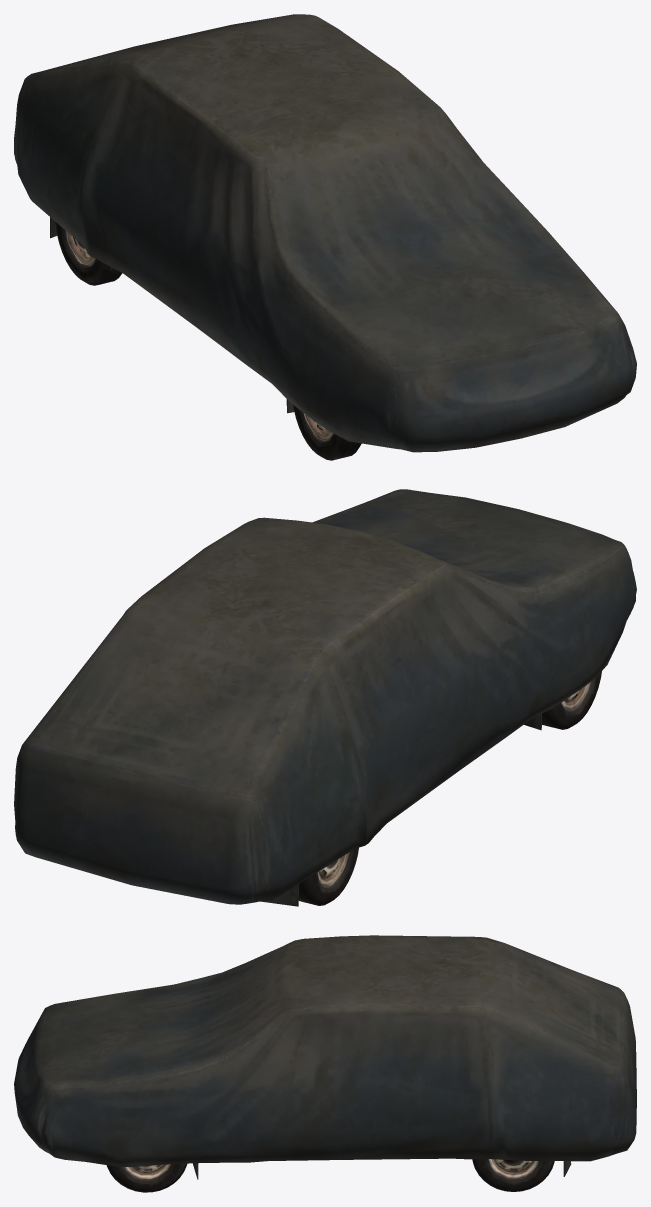
Rendered from covered-car.glb.
The picture shows the model from 3 angles, top to bottom: view 1: azimuth 30°, elevation 25°; view 2: azimuth 150°, elevation 25°; view 3: azimuth 270°, elevation 25°; orthographic projection. The views are drawn at different scales.
Visible parts, largest first — view 1: covered_car_wheel_01; view 2: covered_car_wheel_01; view 3: covered_car_wheel_01.
Boxes of the visible parts, x1,y1,x2,y2 form: covered_car_wheel_01: [14, 14, 636, 460]; covered_car_wheel_01: [14, 489, 636, 906]; covered_car_wheel_01: [14, 935, 636, 1192].
Size of the model in its own units: 1.79 by 1.41 by 4.38.
1 material, 1 textured.
